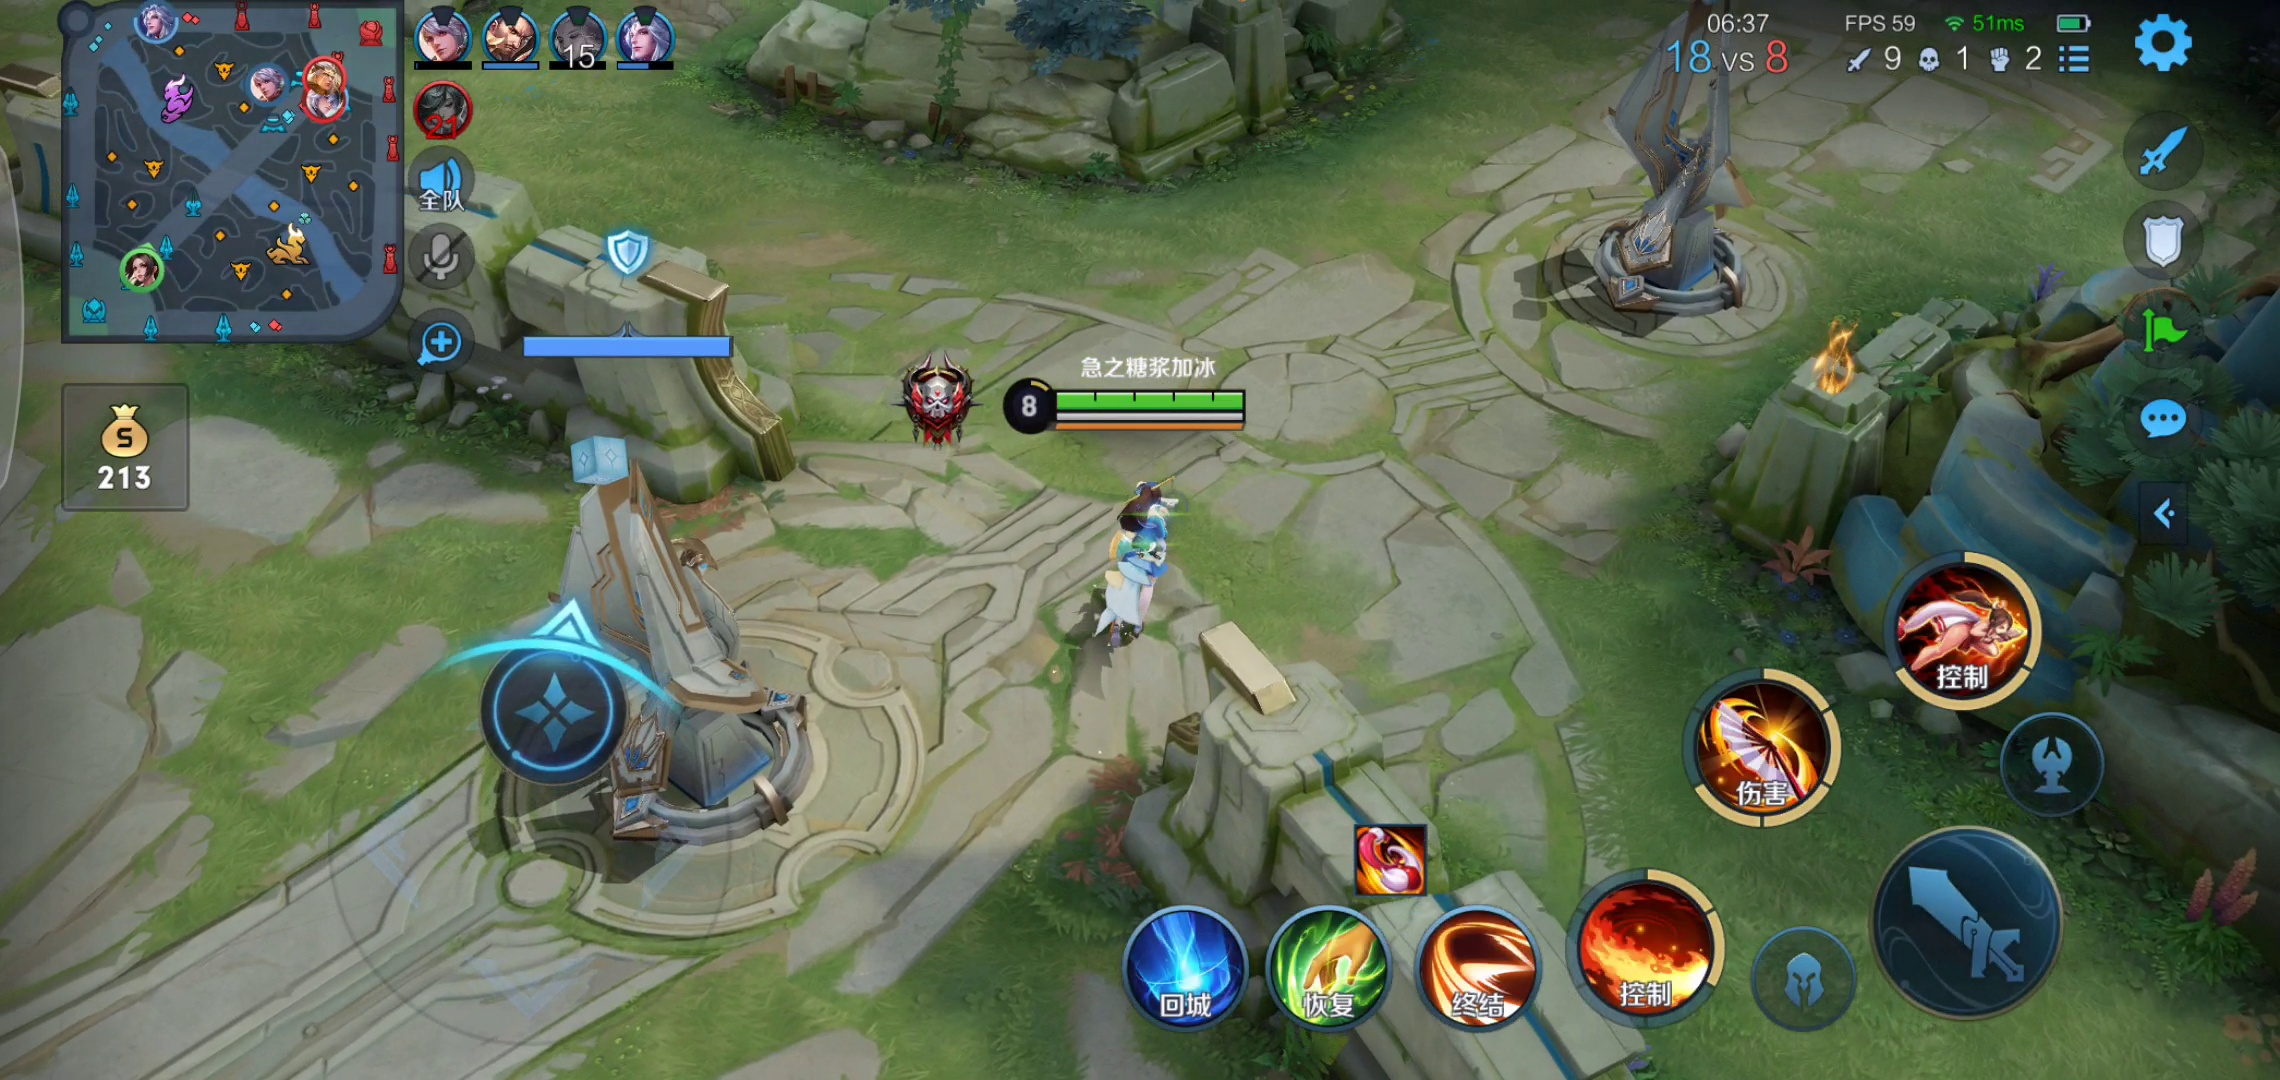hero: (1069, 471, 1200, 661)
tower: (491, 422, 814, 868), (1554, 1, 1786, 326)
